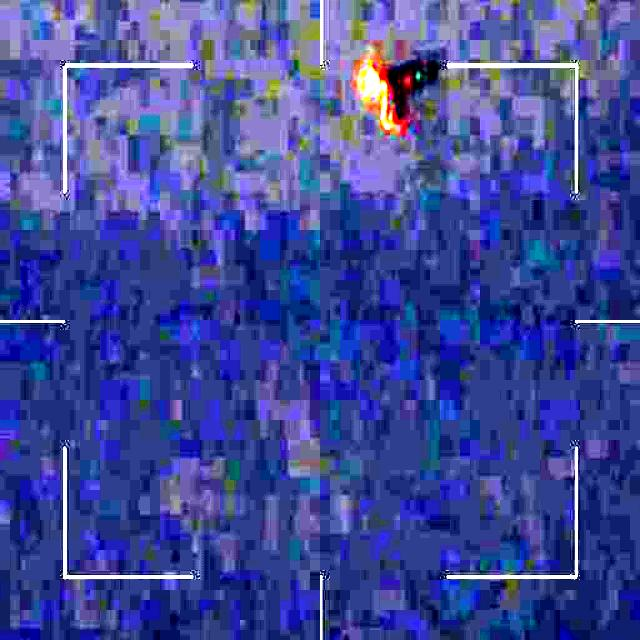bird: (354, 42, 441, 141)
